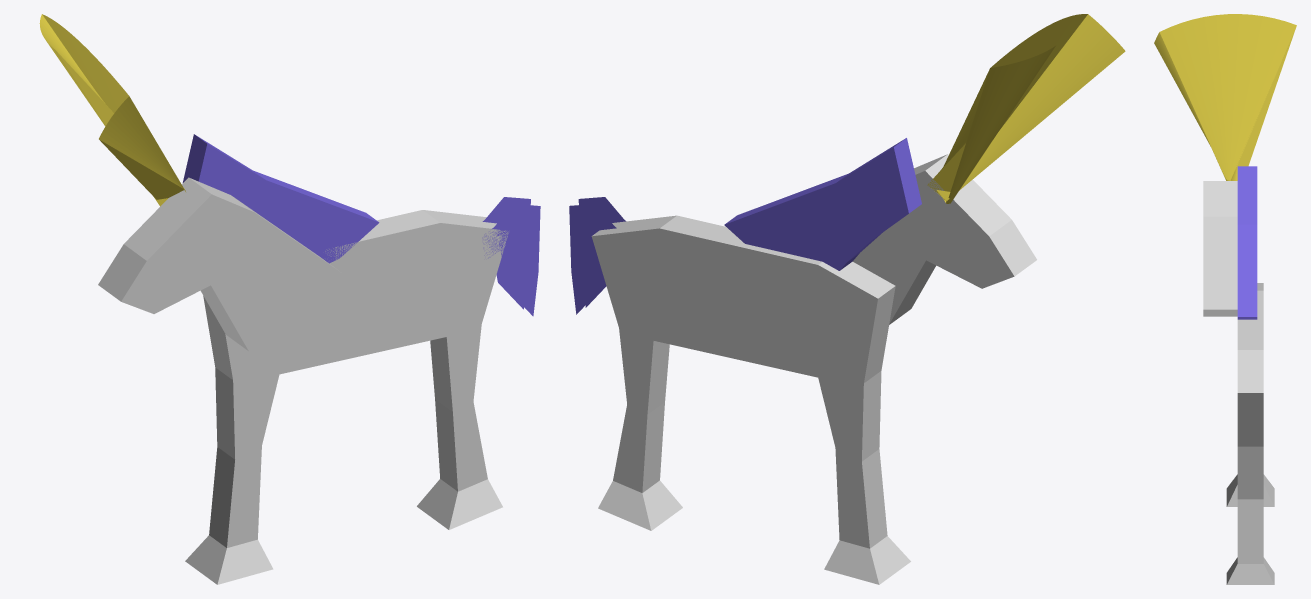
Rendered from horsey2.glb.
The picture shows the model from 3 angles, left to right: view 1: azimuth 30°, elevation 25°; view 2: azimuth 150°, elevation 25°; view 3: azimuth 270°, elevation 25°; orthographic projection. The views are drawn at different scales.
Parts seen in each view (by area): view 1: horsey; view 2: horsey; view 3: horsey.
Part boxes in pixels (x1,y1,x2,y2): horsey: (39,14,540,584); horsey: (569,14,1125,584); horsey: (1154,14,1296,584).
Size of the model in its own units: 11.25 by 11.7 by 3.55.
